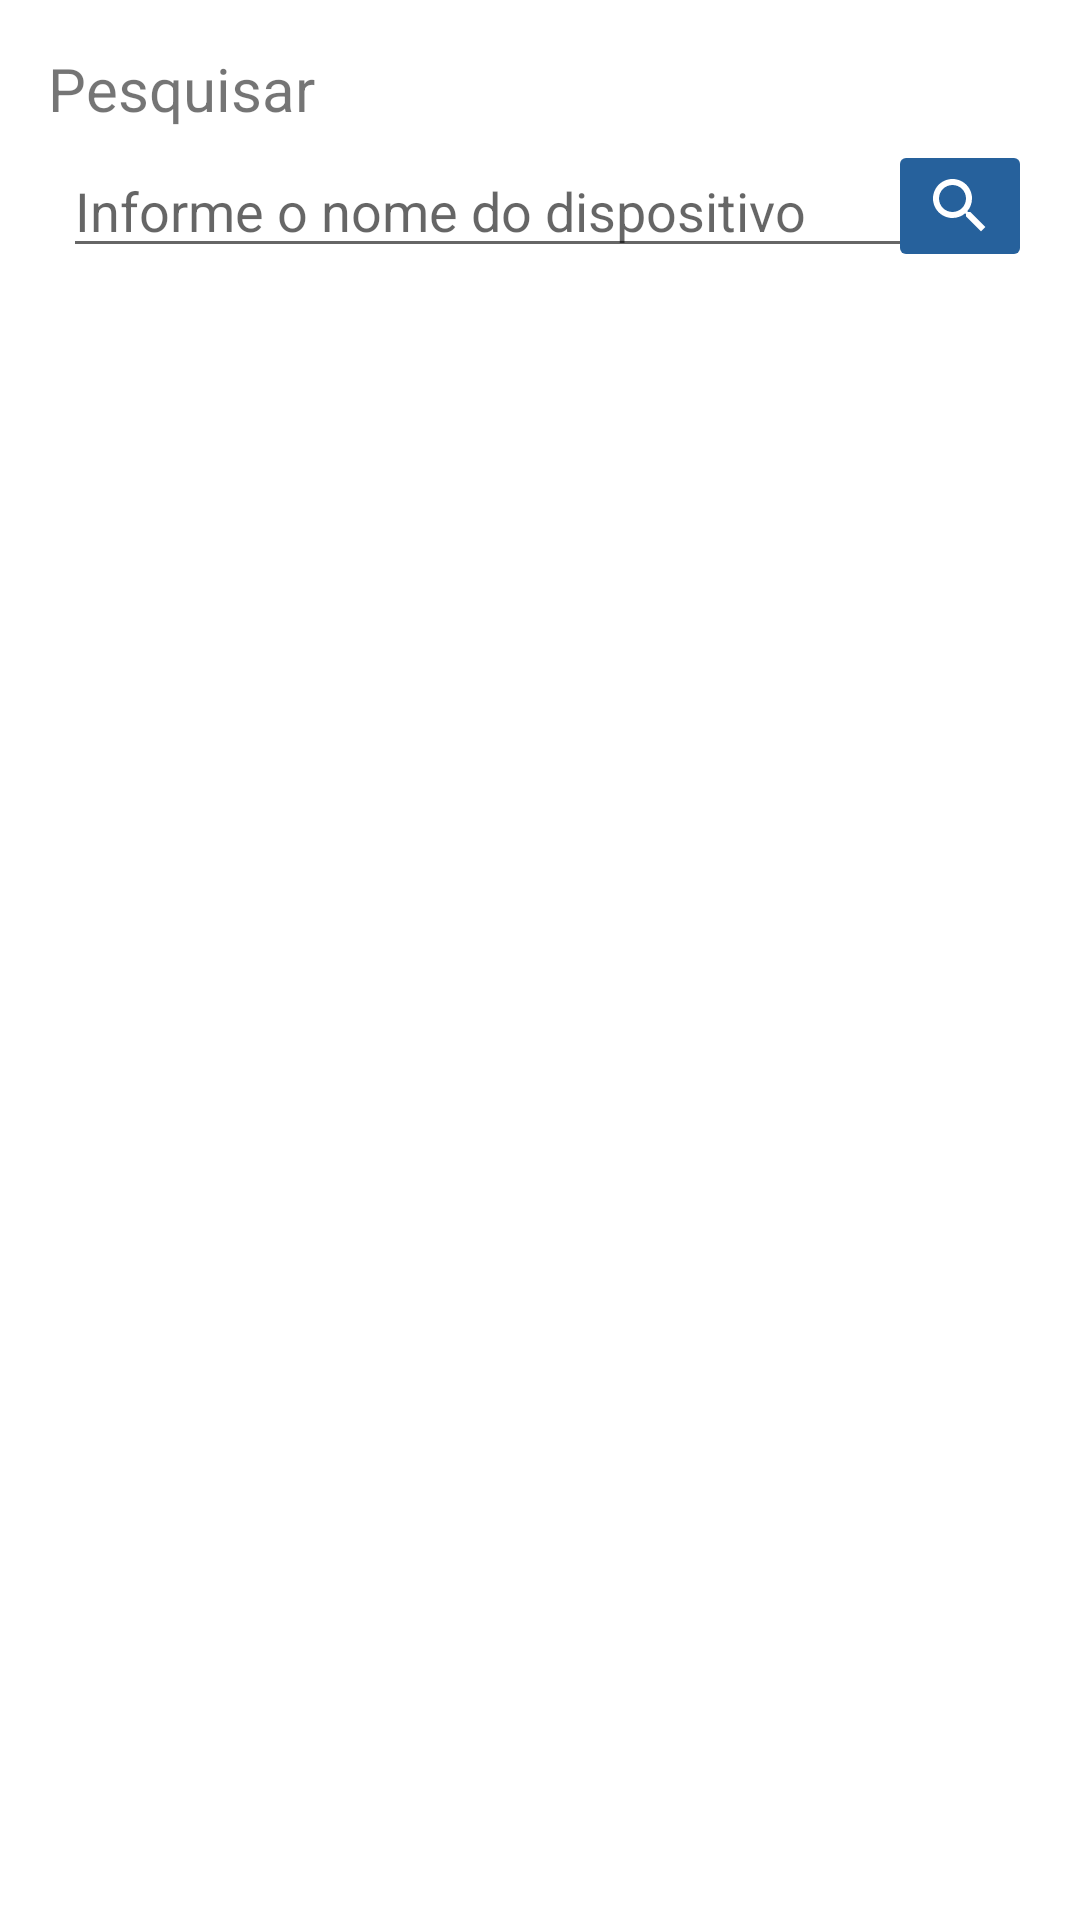

Named icons in this screenshot (1080 x 1920) and their centers, (x,y):
search: (954,206)
